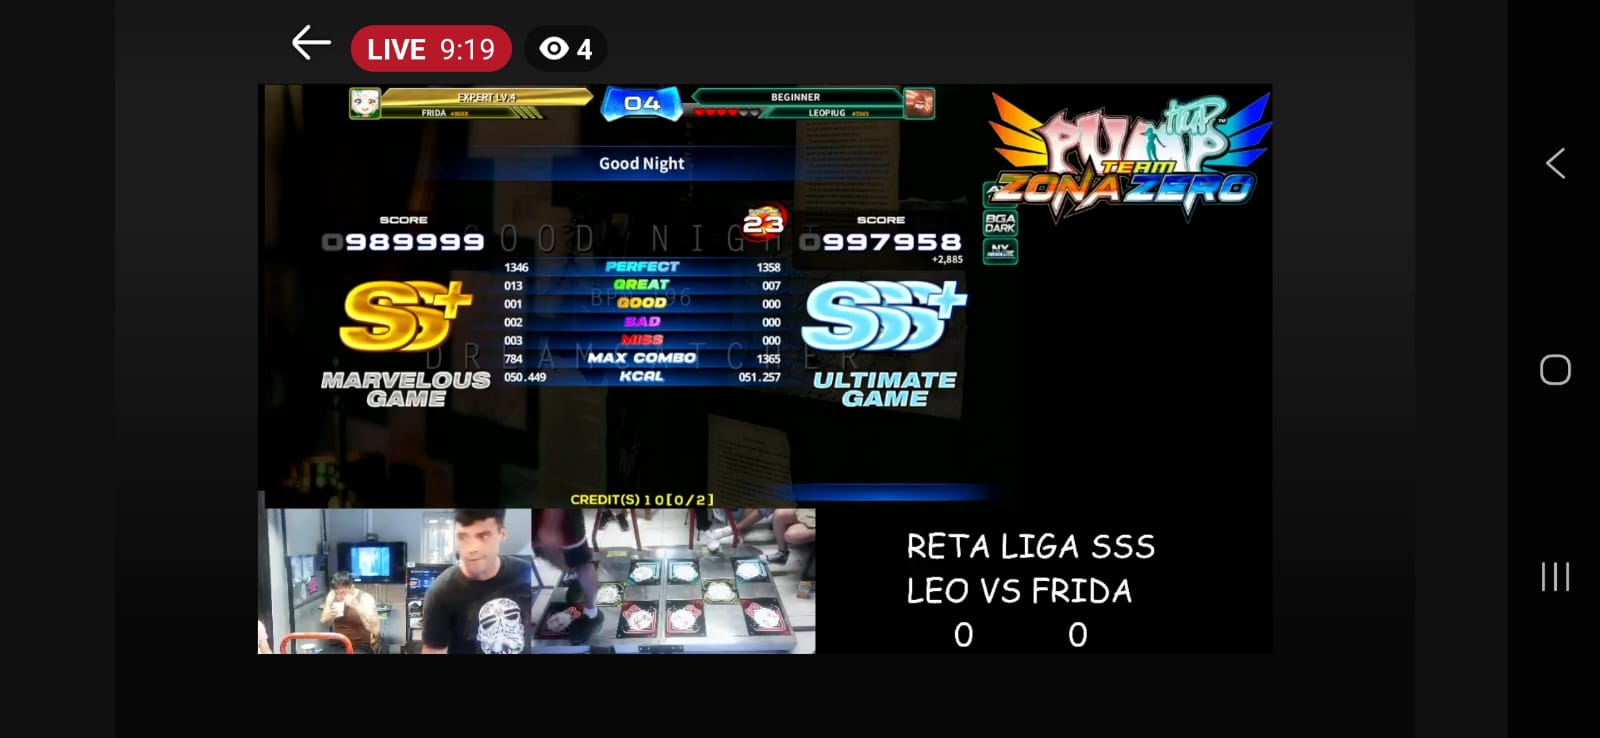difficulty: (746, 195, 795, 242)
fullscore: (631, 90, 993, 501)
rank: (787, 272, 970, 360), (320, 261, 483, 360)
score: (319, 216, 494, 262), (806, 214, 963, 255)
song_name: (510, 145, 793, 182)
